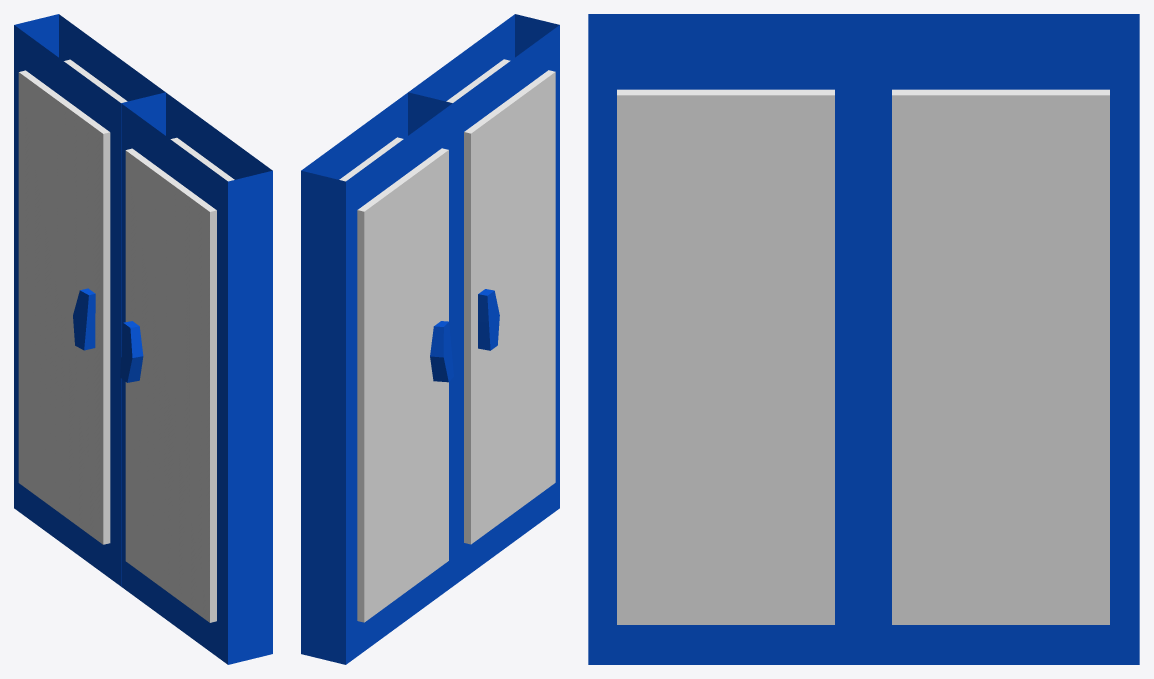
The model's file is door.glb.
3 renders of one model, left to right at view 1: azimuth 30°, elevation 25°; view 2: azimuth 150°, elevation 25°; view 3: azimuth 270°, elevation 25°, orthographic. The views are drawn at different scales.
Visible parts, largest first — view 1: Plane.000, Cube.001, Cube, Plane.001, Cylinder.001, Cylinder; view 2: Plane.001, Cube.001, Cube, Plane.000, Cylinder.001, Cylinder; view 3: Cube, Cube.001, Plane.000, Plane.001.
Boxes of the visible parts, x1,y1,x2,y2 form: Plane.000: (121, 92, 272, 664); Cube.001: (18, 59, 127, 544); Cube: (125, 137, 234, 622); Plane.001: (14, 14, 165, 586); Cylinder.001: (73, 288, 95, 350); Cylinder: (120, 321, 143, 382); Plane.001: (301, 92, 452, 664); Cube.001: (339, 137, 448, 622); Cube: (446, 59, 555, 544); Plane.000: (408, 14, 559, 586); Cylinder.001: (430, 321, 453, 382); Cylinder: (478, 289, 499, 350); Cube: (617, 89, 834, 624); Cube.001: (892, 89, 1109, 624); Plane.000: (588, 14, 863, 664); Plane.001: (864, 14, 1139, 664).
Size of what is drawn, in the model's own units: 0.3958 by 2.45 by 1.96.
6 materials, 2 textured.
